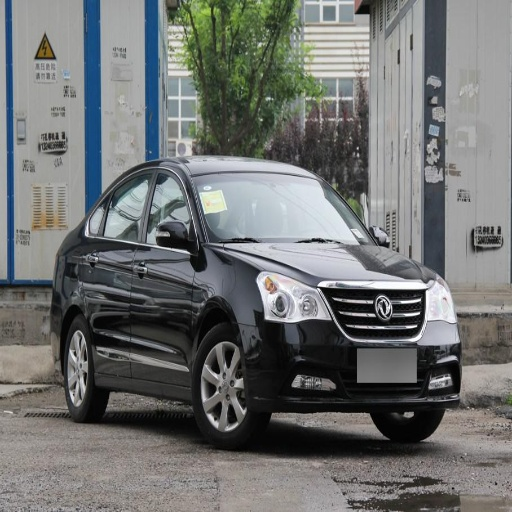front_bumper: (242, 281, 461, 415)
front_right_door: (131, 166, 198, 385)
front_right_light: (257, 268, 319, 320)
